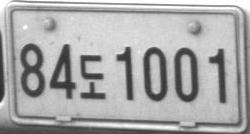0: (173, 47, 199, 103), (143, 46, 168, 102)
1: (113, 45, 141, 101), (206, 48, 233, 103)
4: (48, 44, 76, 99)
8: (19, 42, 46, 98)
도: (79, 54, 106, 99)
